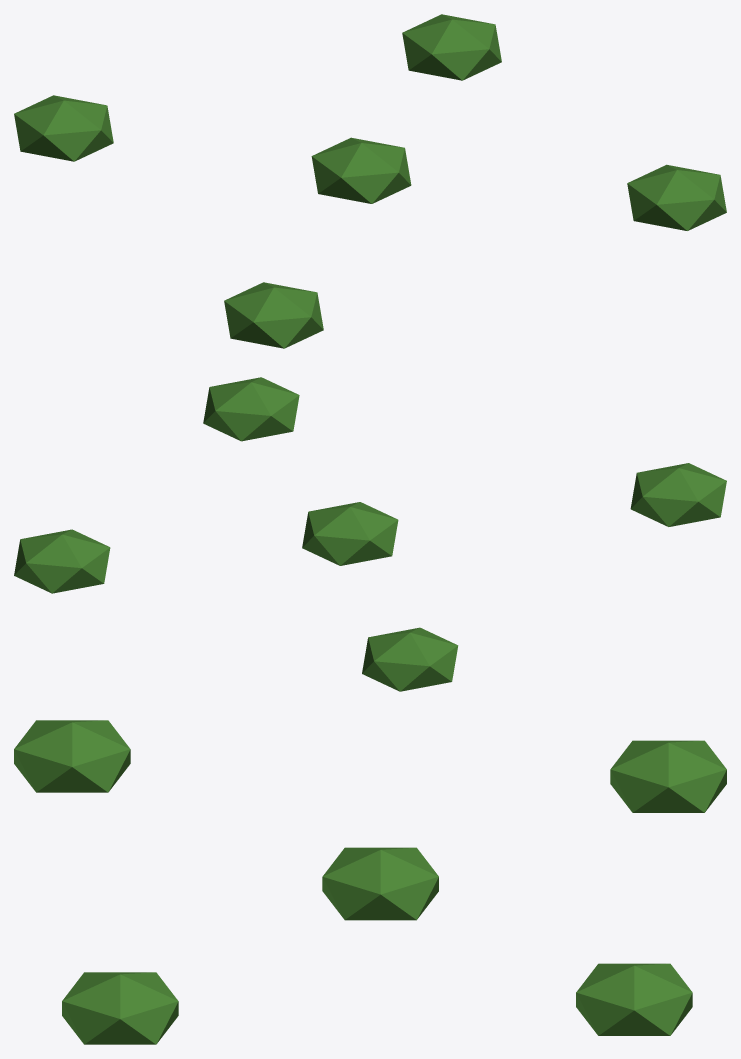
Rendered from crop_potato_young.glb.
3 renders of one model, top to bottom at view 1: azimuth 30°, elevation 25°; view 2: azimuth 150°, elevation 25°; view 3: azimuth 270°, elevation 25°, orthographic. The views are drawn at different scales.
Visible parts, largest first — view 1: crop_potato_young; view 2: crop_potato_young; view 3: crop_potato_young.
Part boxes in pixels (left/top/right/bottom): crop_potato_young: left=14, top=14, right=726, bottom=348; crop_potato_young: left=14, top=377, right=726, bottom=691; crop_potato_young: left=14, top=720, right=726, bottom=1044.
Bounding box in the file's own units: 1.05 × 0.11 × 1.04.
